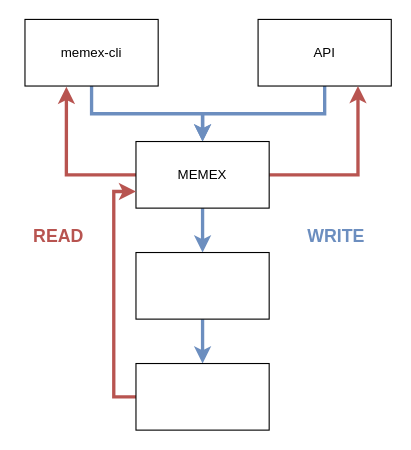
This 411x450 diagram has some shape labels left out. The box of each missing label's shape, as (x1, y1, x2, y2) in pixels:
Database: (135, 362, 269, 430)
middleware: (135, 251, 269, 319)
